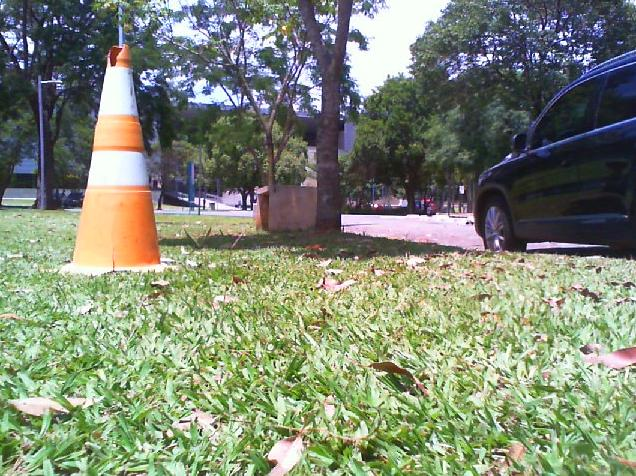0 cone: (57, 45, 171, 273)
